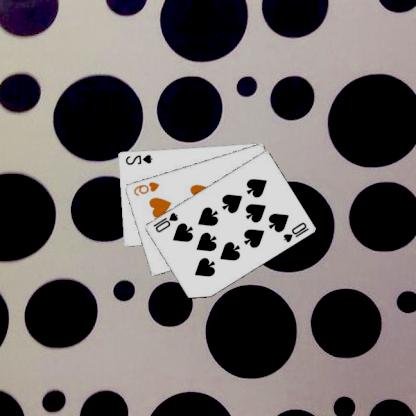10S: (152, 209, 181, 234), (282, 219, 312, 243)
2S: (125, 152, 156, 166)
6H: (132, 179, 162, 197)
